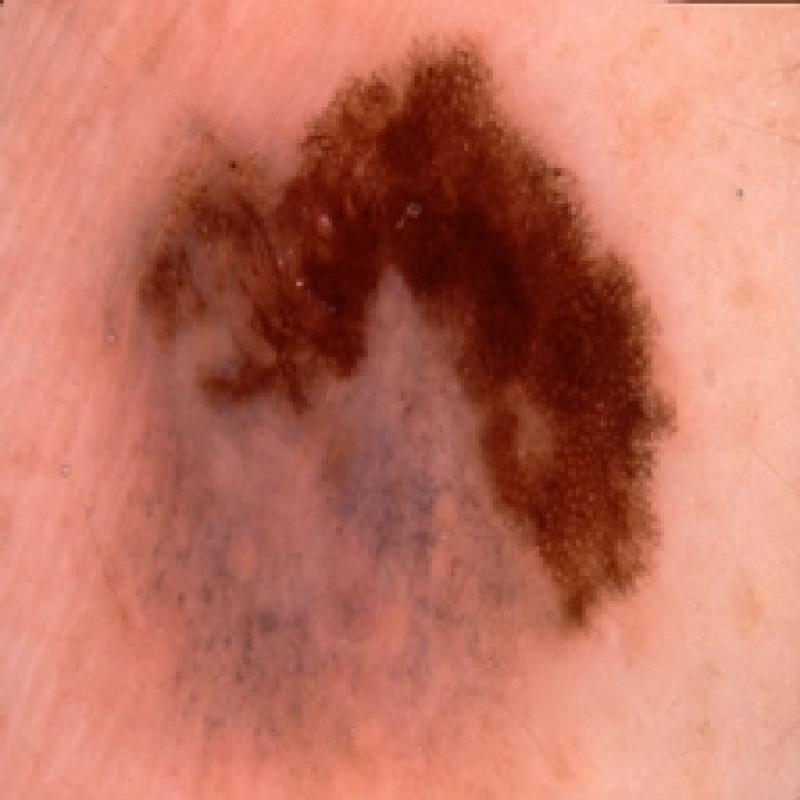malignant: (114, 30, 712, 731)
